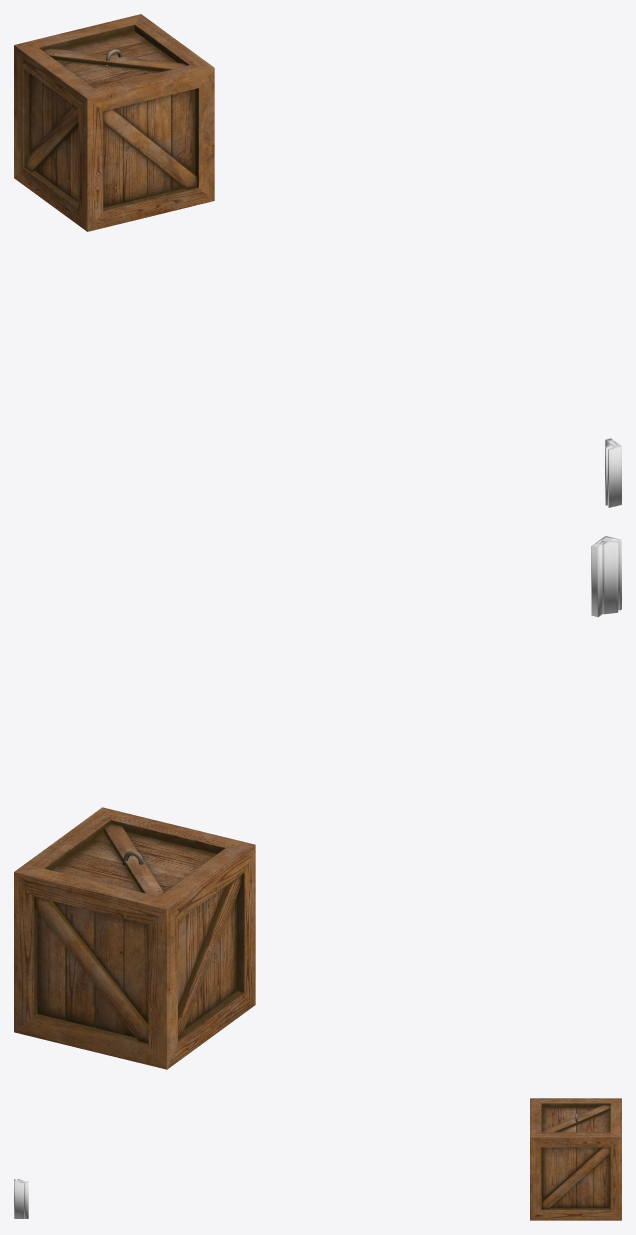
The model's file is rs_debries.glb.
3 views of the same model, one above another, from view 1: azimuth 30°, elevation 25°; view 2: azimuth 150°, elevation 25°; view 3: azimuth 270°, elevation 25° (orthographic). The views are drawn at different scales.
Parts seen in each view (by area): view 1: Cube, Corner; view 2: Cube, Corner, Plank.Side.Connector; view 3: Cube, Corner, Plank.Side.Connector.
Boxes of the visible parts, x1,y1,x2,y2 form: Cube: (14, 14, 214, 231); Corner: (605, 441, 621, 507); Cube: (14, 807, 255, 1069); Corner: (596, 536, 621, 614); Plank.Side.Connector: (591, 540, 605, 617); Cube: (530, 1098, 621, 1220); Corner: (14, 1179, 23, 1218); Plank.Side.Connector: (20, 1181, 28, 1218).
Size of the model in its own units: 0.2312 by 0.2421 by 1.53.
Materials: 2 (2 with a texture image).
